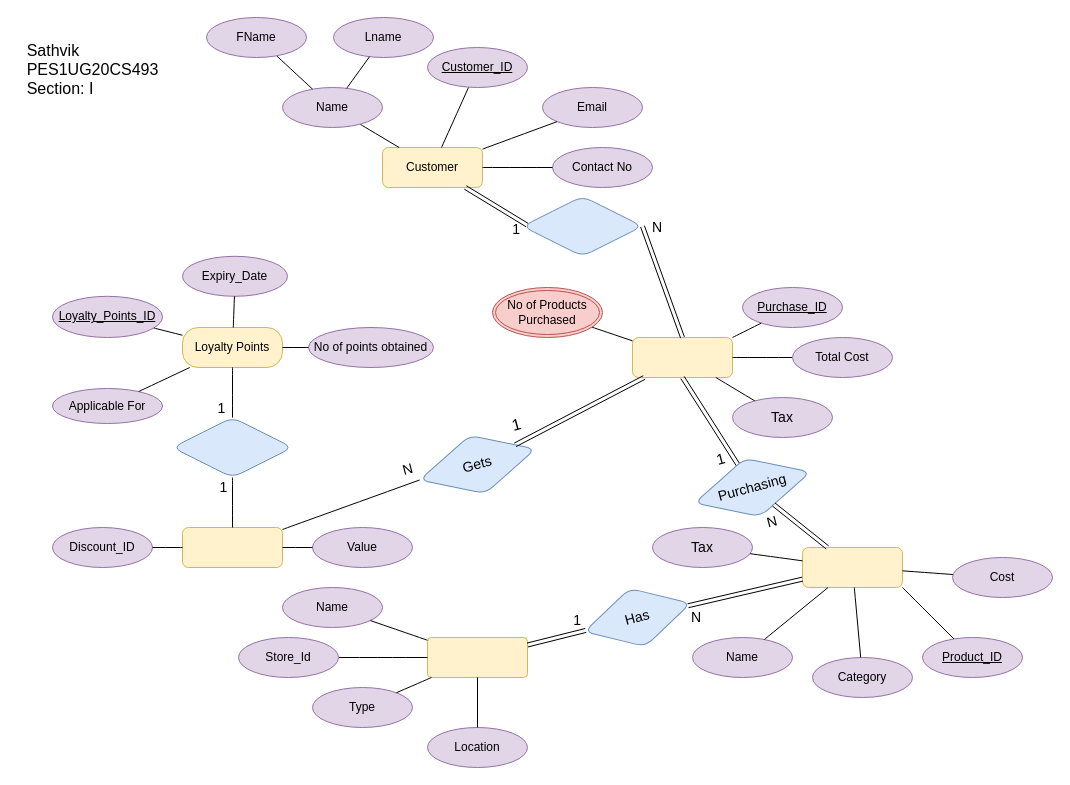
The diagram is 1070 pixels wide and 785 high, and some of its shapes have lost their labels. Each missing label, with the centre of its shape:
"Based On" belongs at pixel 232 447.
"Bill" belongs at pixel 682 357.
"Discount" belongs at pixel 232 547.
"Makes" belongs at pixel 582 225.
"Products" belongs at pixel 852 567.
"Store" belongs at pixel 477 657.
